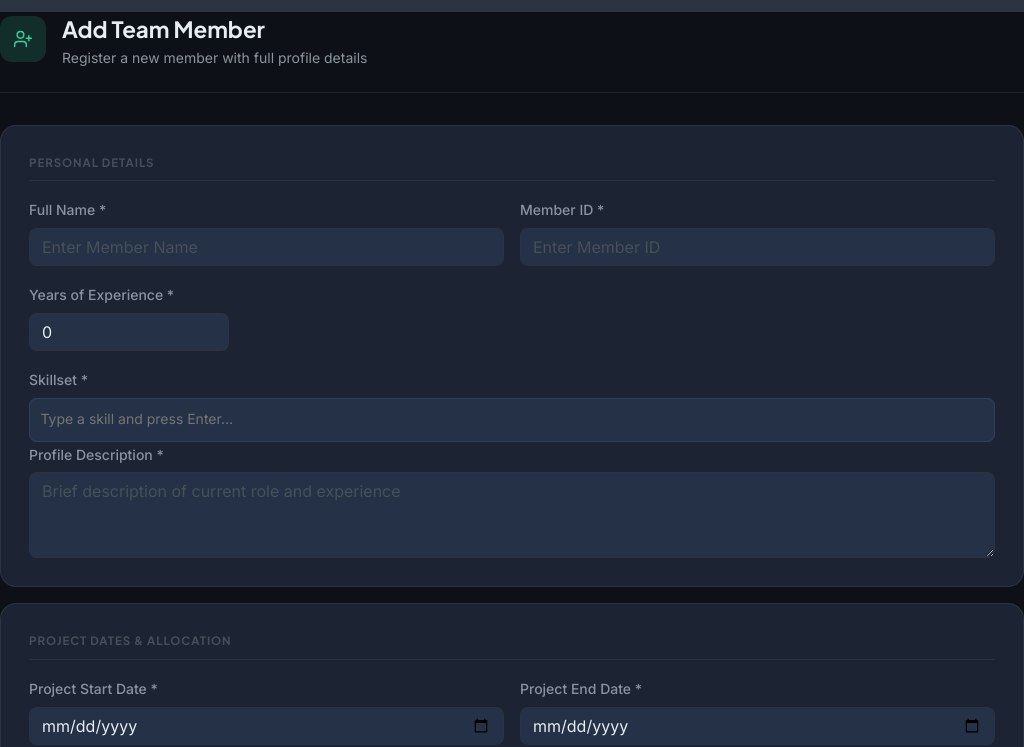
Test: AddMemberPage › should show validation error for empty member name on blur
Click the field labelled "Full Name *" at (266, 247), box [29,228,504,266]
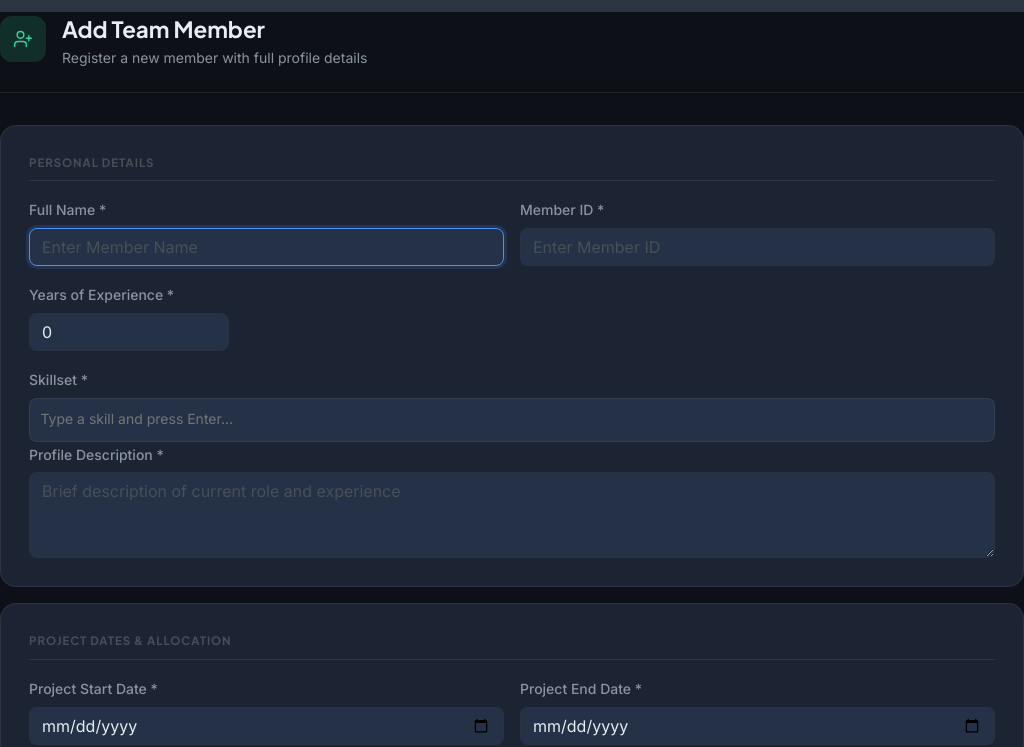
Press Tab
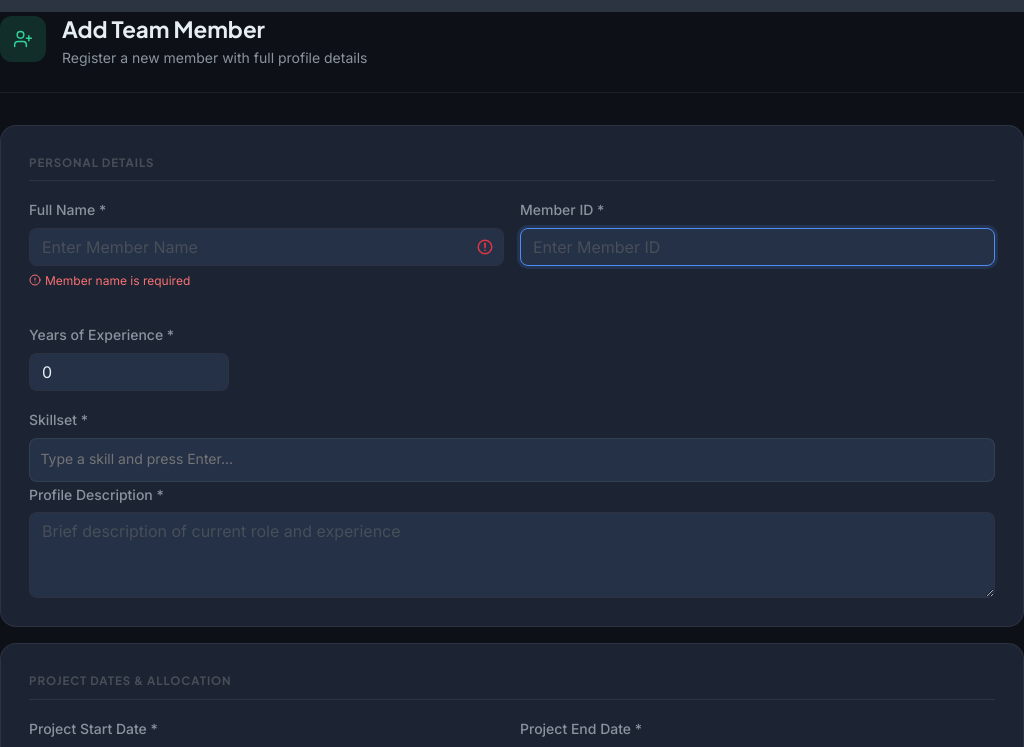
Expected: the text "Member name is required" is shown, [29,273,190,288]
